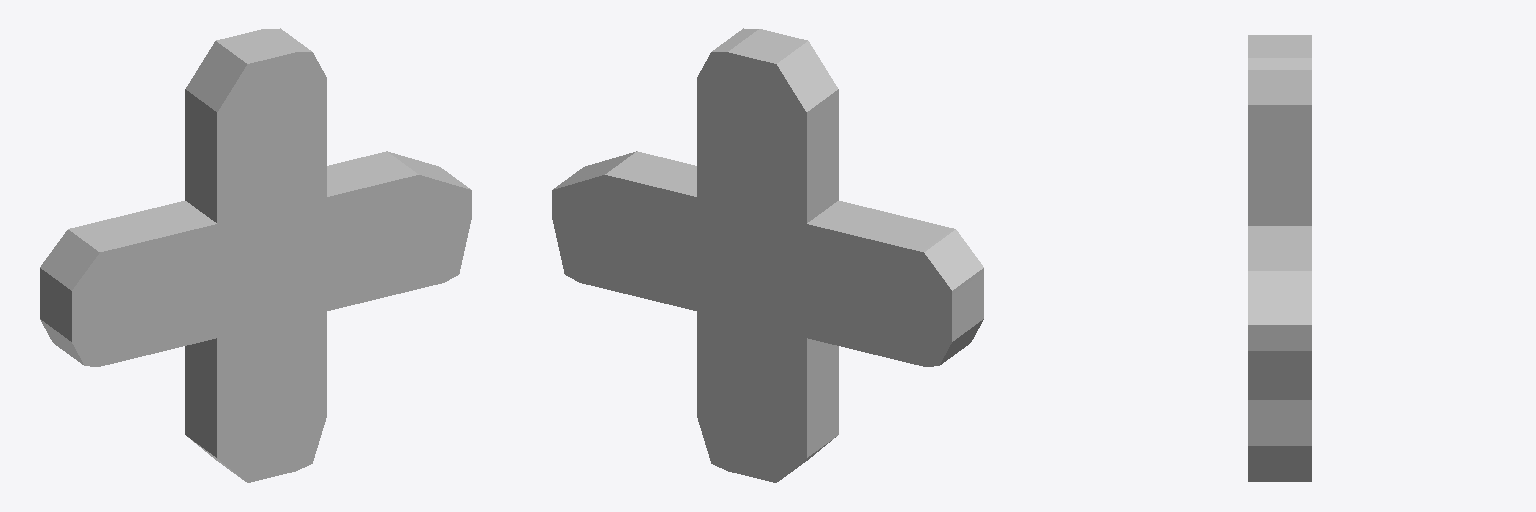
The model's file is fa-plus.obj.
The picture shows the model from 3 angles: view 1: azimuth 30°, elevation 25°; view 2: azimuth 150°, elevation 25°; view 3: azimuth 270°, elevation 25°; orthographic projection.
Size of the model in its own units: 0.8315 by 0.8315 by 0.1152.